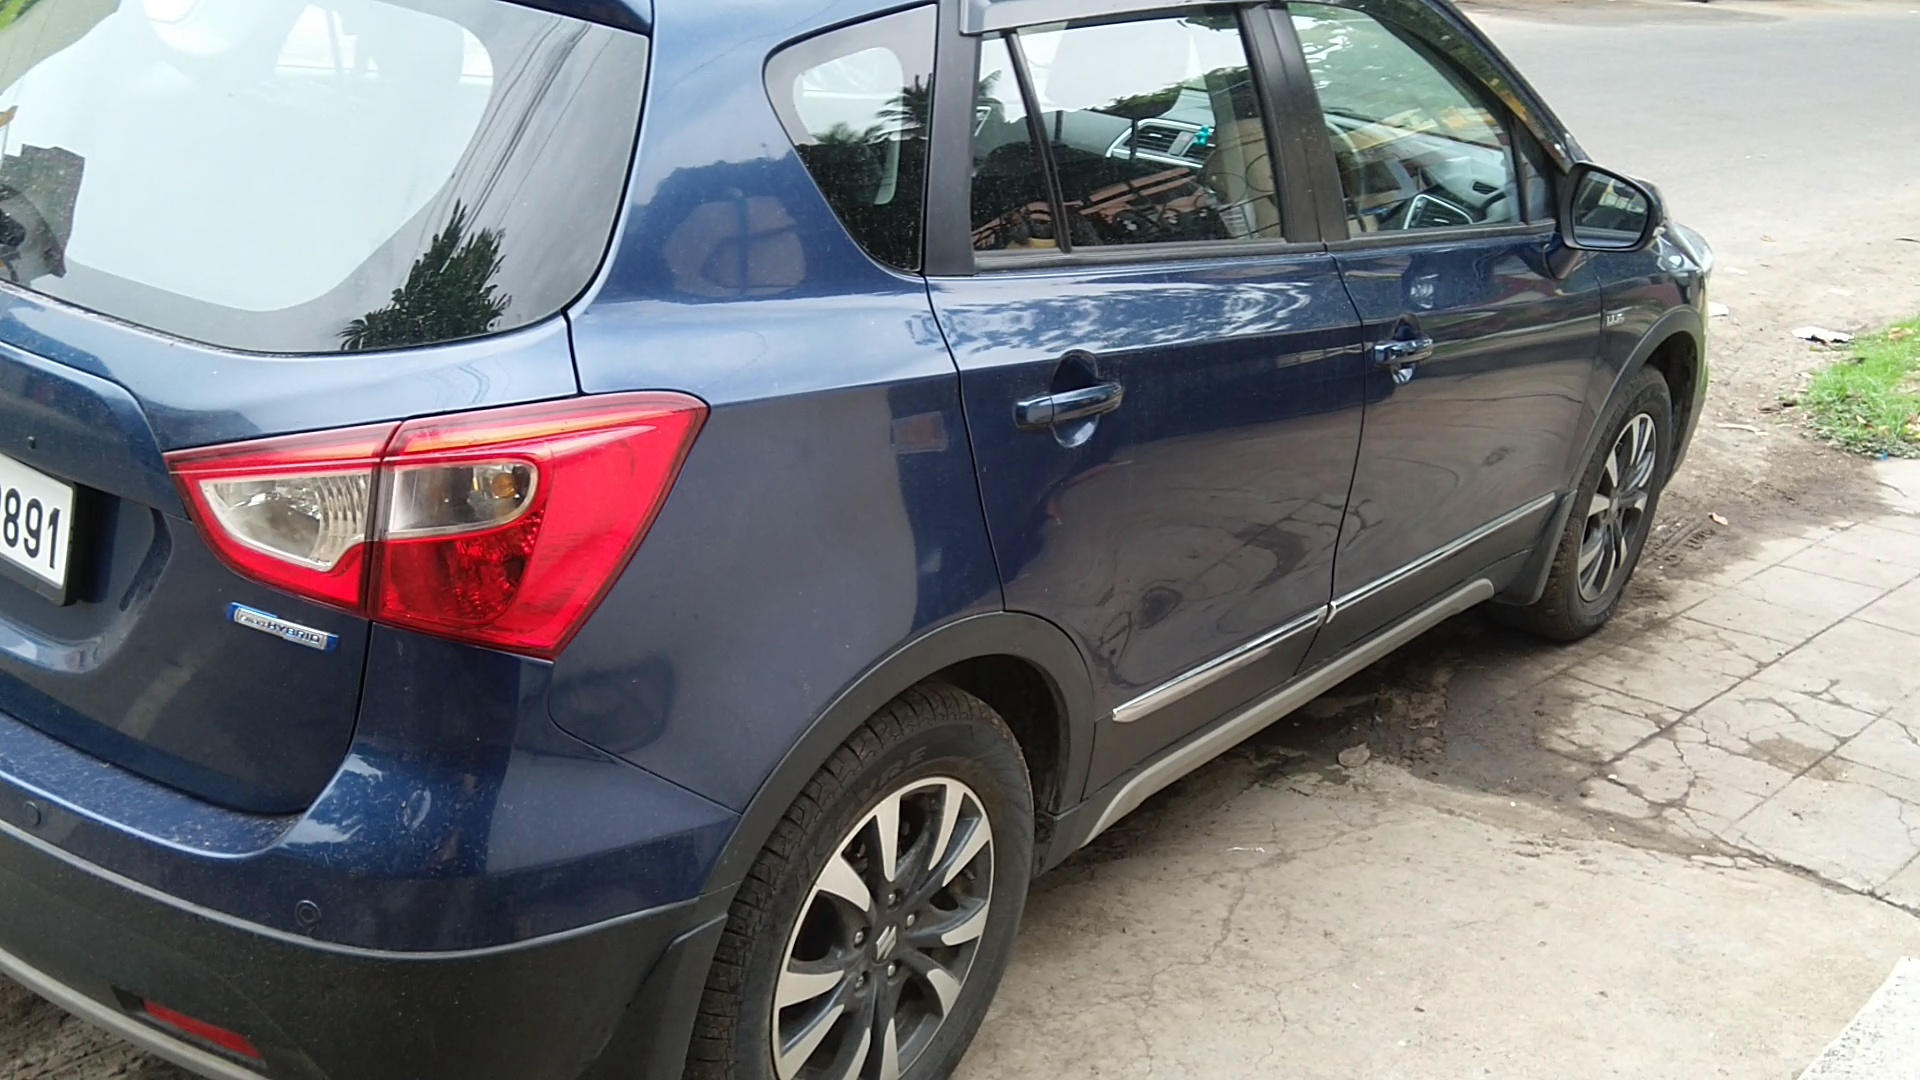alloy_wheel: (709, 712, 1034, 1080), (1539, 363, 1691, 636)
shvs: (214, 585, 344, 670)
